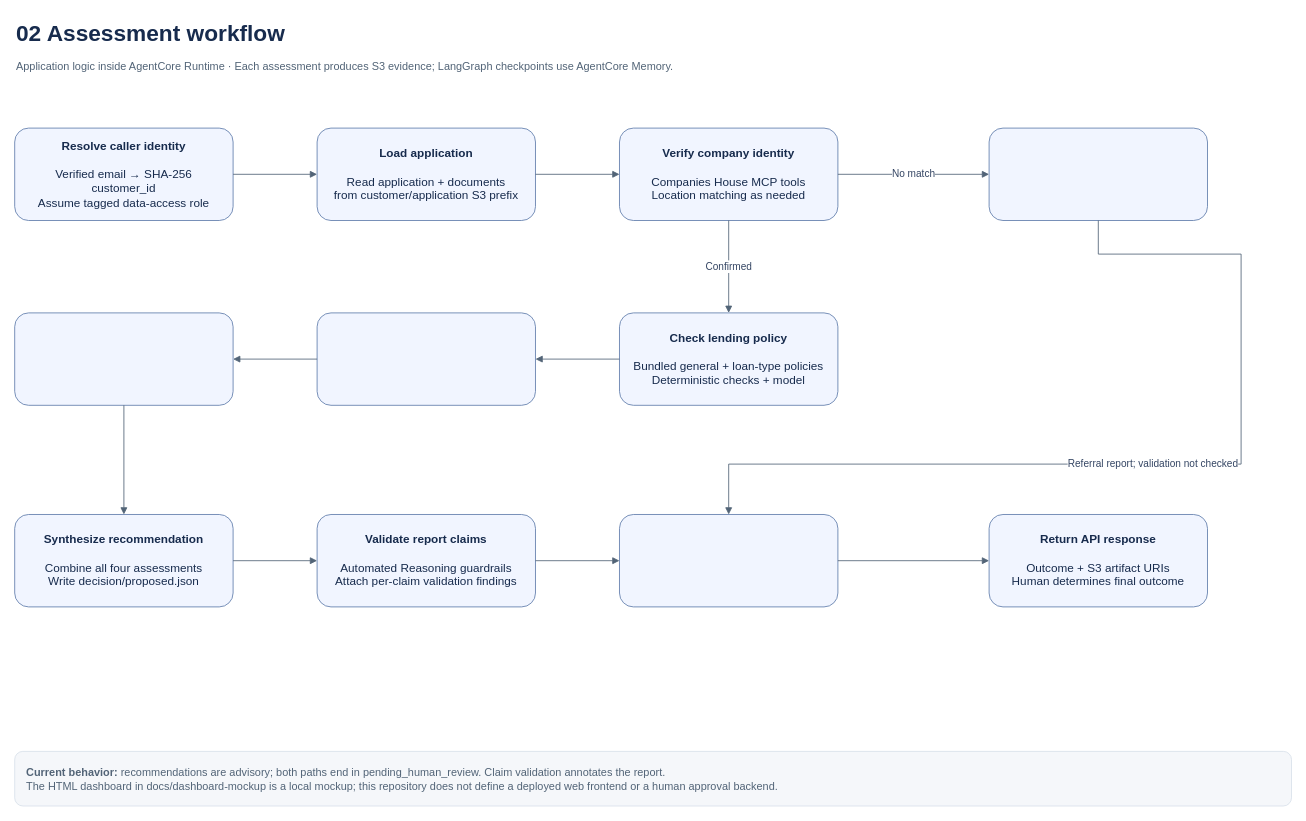
Some shapes in this 1306 by 821 pixel diagram are drawn without their labels. Here are the shapes that lost their labels. From the top down, the box of each, then its label:
(988, 127, 1208, 220): Company not confirmed Early referral recommendation Skip downstream assessments
(14, 312, 233, 405): Research web presence Gateway web-search tools + model Persist web evidence
(316, 312, 536, 405): Assess financials Financial documents + model Persist financial assessment
(619, 514, 838, 607): Persist reviewer report decision/result.json outcome: pending_human_review
